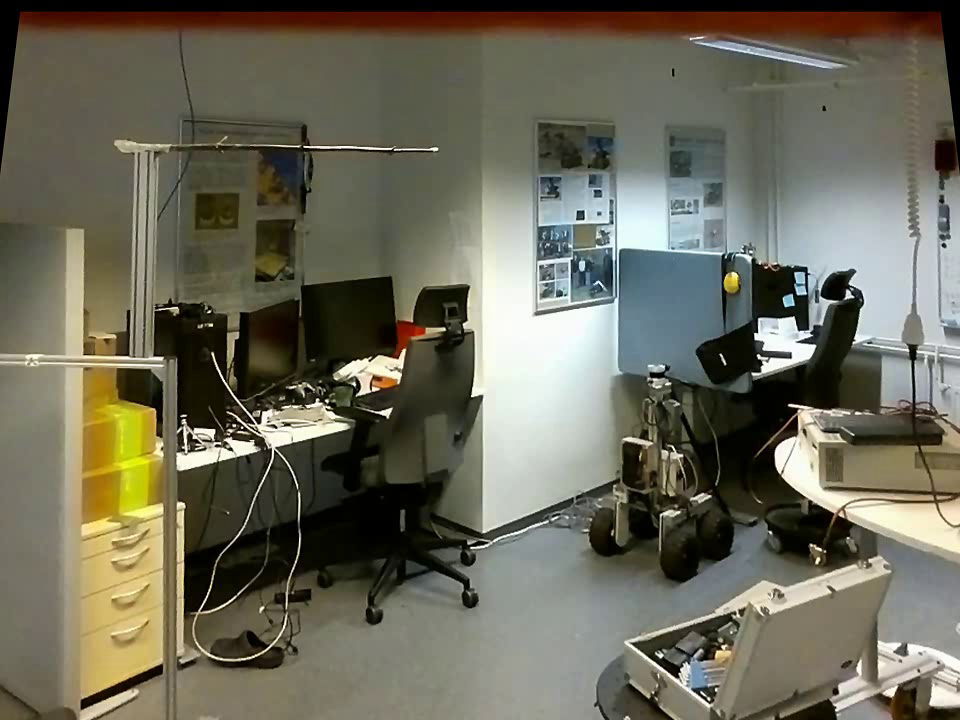aluminum_frame: (154, 356, 181, 716), (126, 153, 155, 355), (1, 350, 166, 373)
branch: (173, 129, 426, 159)
